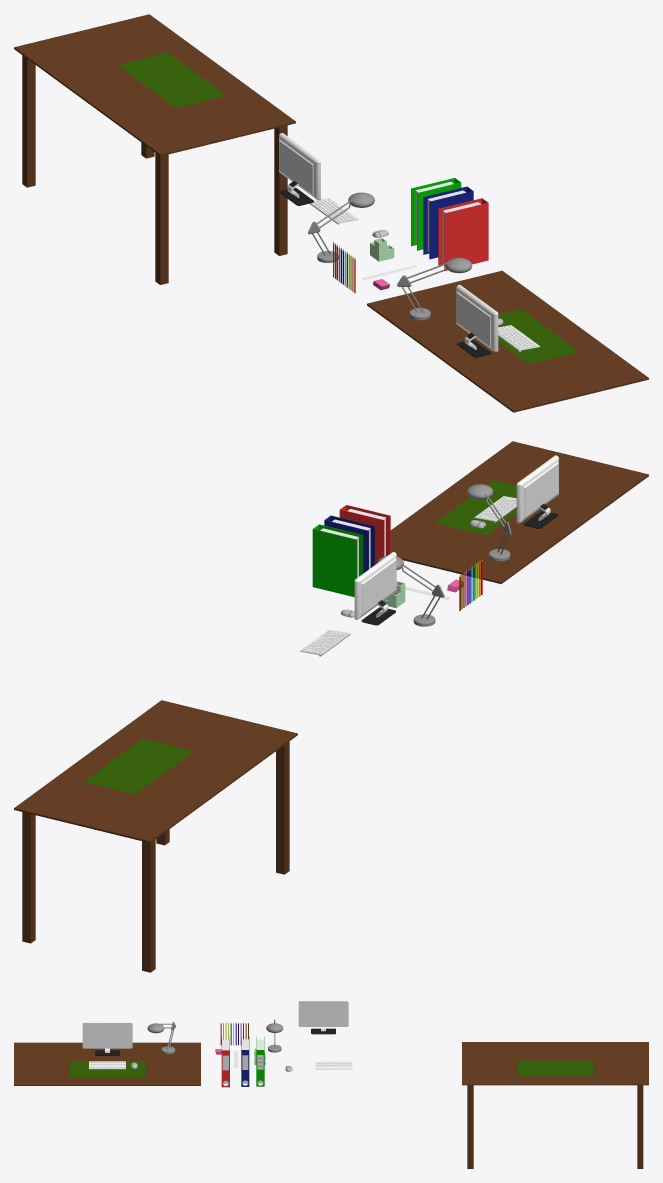
Rendered from spel.fbx.
The picture shows the model from 3 angles, top to bottom: view 1: azimuth 30°, elevation 25°; view 2: azimuth 150°, elevation 25°; view 3: azimuth 270°, elevation 25°; orthographic projection. The views are drawn at different scales.
Visible parts, largest first — view 1: Model; view 2: Model; view 3: Model.
Part boxes in pixels (x1,y1,x2,y2): Model: (14, 14, 648, 412); Model: (14, 441, 648, 972); Model: (14, 1001, 648, 1168).
Size of the model in its own units: 8296 by 12087 by 50894.
